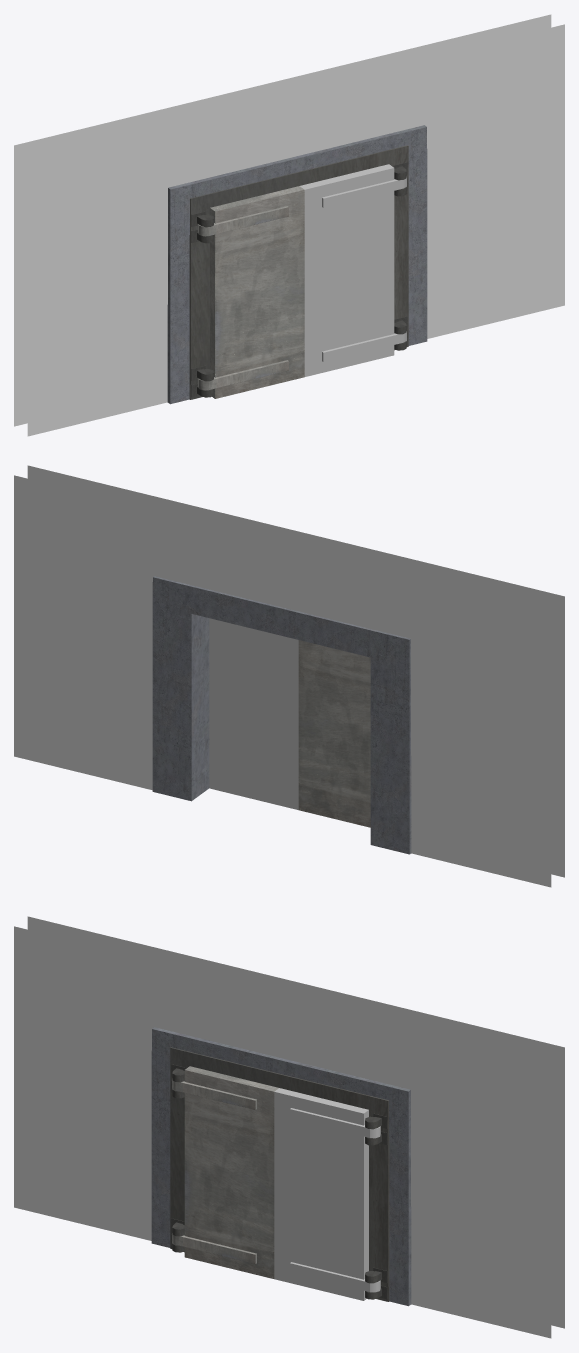
File: secure door.FBX
3 views of the same model, one above another, from view 1: azimuth 30°, elevation 25°; view 2: azimuth 150°, elevation 25°; view 3: azimuth 330°, elevation 25° (orthographic).
Visible parts, largest first — view 1: Plane001, Object006, Object001, Object005, Cylinder002; view 2: Plane001, Object006, Object005, Object001; view 3: Plane001, Object006, Object005, Object001, Cylinder002.
Part boxes in pixels (x1,y1,x2,y2): Plane001: (14, 14, 564, 436); Object006: (167, 125, 427, 404); Object001: (198, 186, 304, 398); Object005: (300, 164, 406, 376); Cylinder002: (191, 162, 407, 397); Plane001: (14, 465, 564, 887); Object006: (152, 576, 411, 854); Object005: (209, 618, 298, 809); Object001: (298, 640, 370, 827); Plane001: (14, 916, 564, 1338); Object006: (151, 1027, 411, 1306); Object005: (274, 1088, 380, 1300); Object001: (172, 1066, 278, 1278); Cylinder002: (171, 1064, 387, 1299).
Bounding box in the file's own units: 6 × 3 × 0.5019.
